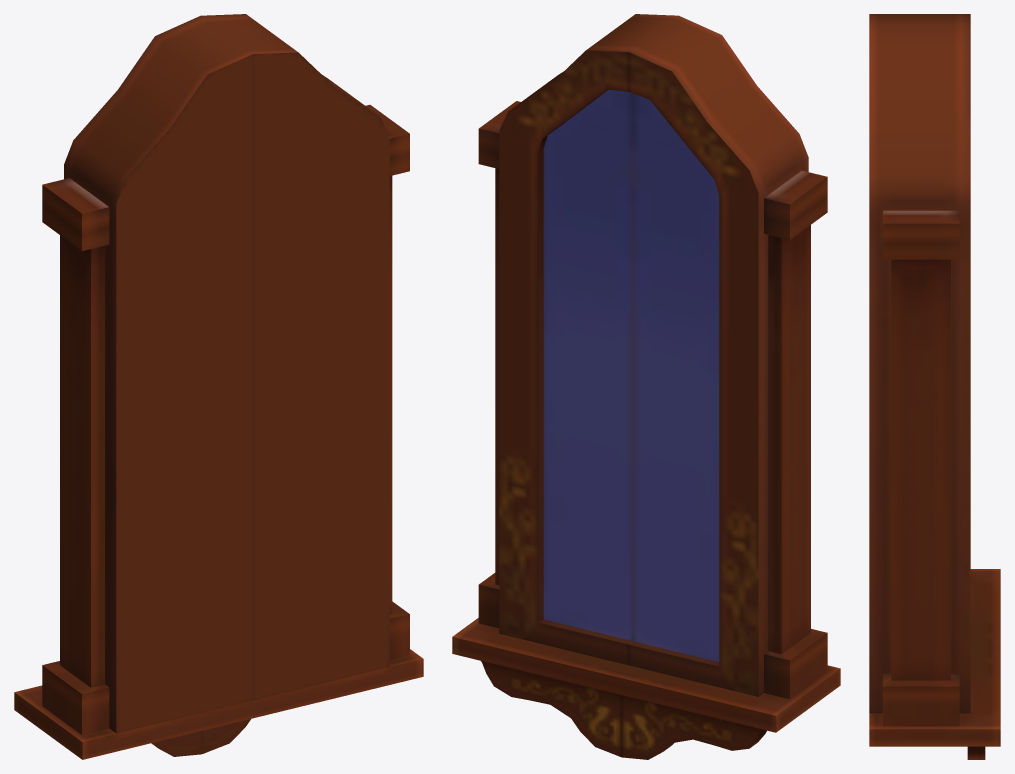
Rendered from Clock_03.gltf.
3 views of the same model, side by side, from view 1: azimuth 30°, elevation 25°; view 2: azimuth 150°, elevation 25°; view 3: azimuth 270°, elevation 25° (orthographic). The views are drawn at different scales.
Visible parts, largest first — view 1: Clock_03; view 2: Clock_03; view 3: Clock_03.
Part boxes in pixels (<box>): Clock_03: <box>14,14,423,759</box>; Clock_03: <box>452,14,840,759</box>; Clock_03: <box>869,14,1000,759</box>.
Size of the model in its own units: 21.66 by 44.75 by 7.5.
1 material, 1 textured.
